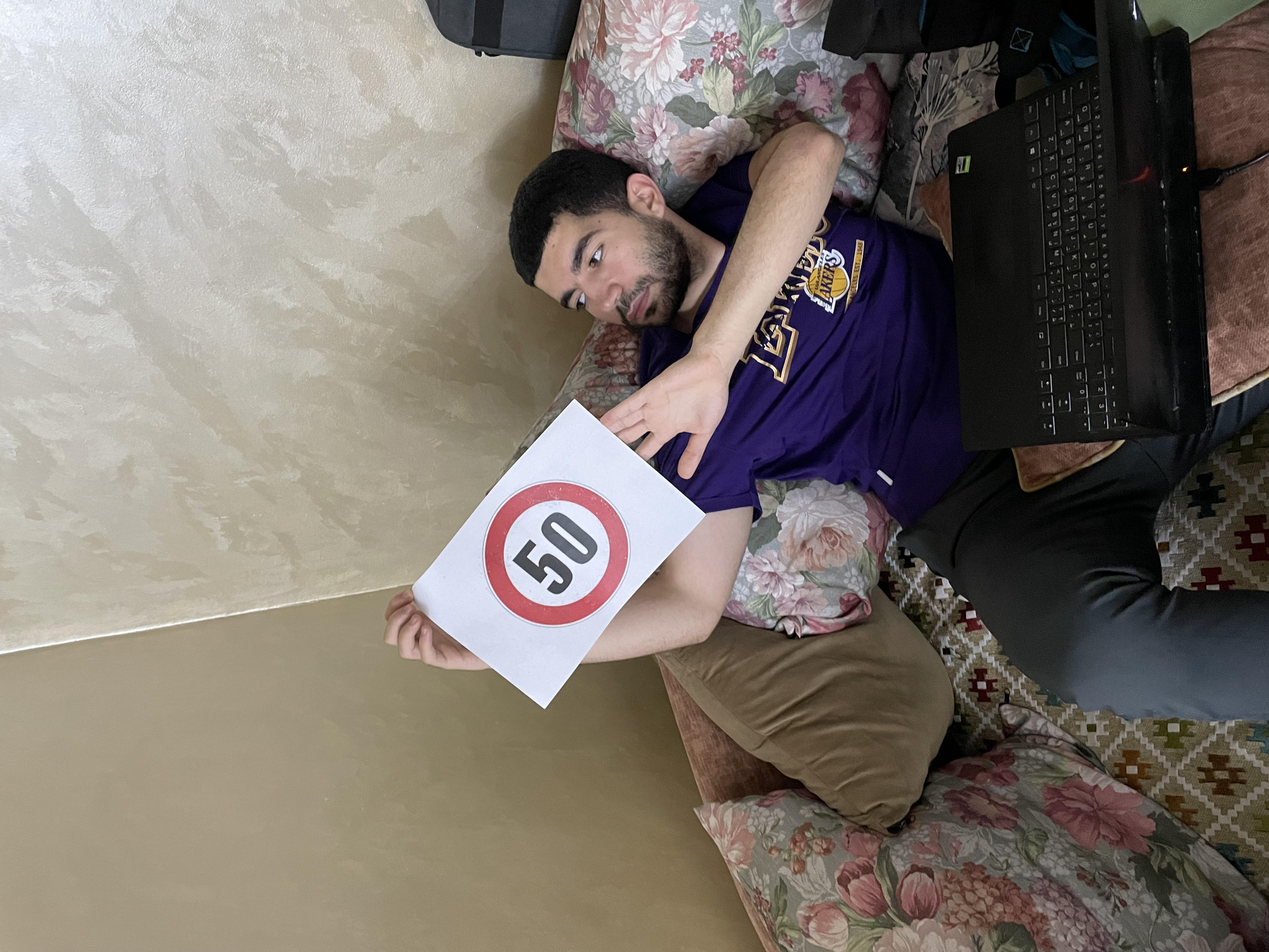50-Speed: (429, 359, 627, 473)
